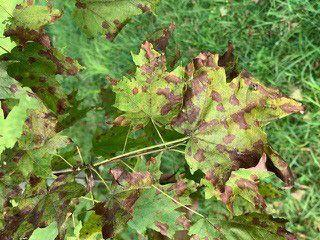black-spot: (209, 84, 251, 147)
